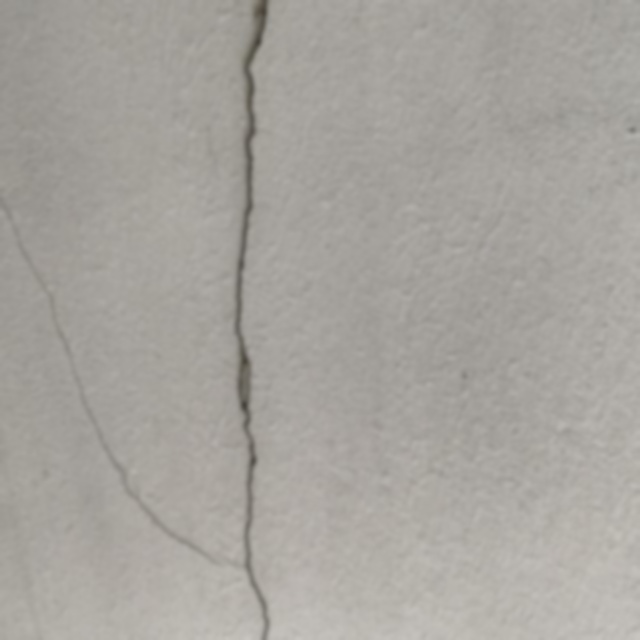SurfaceCrack: (184, 0, 312, 640)
